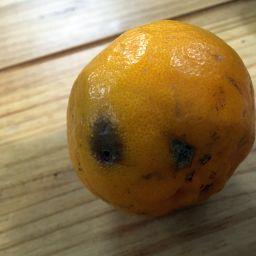Unripe: (69, 21, 255, 213)
